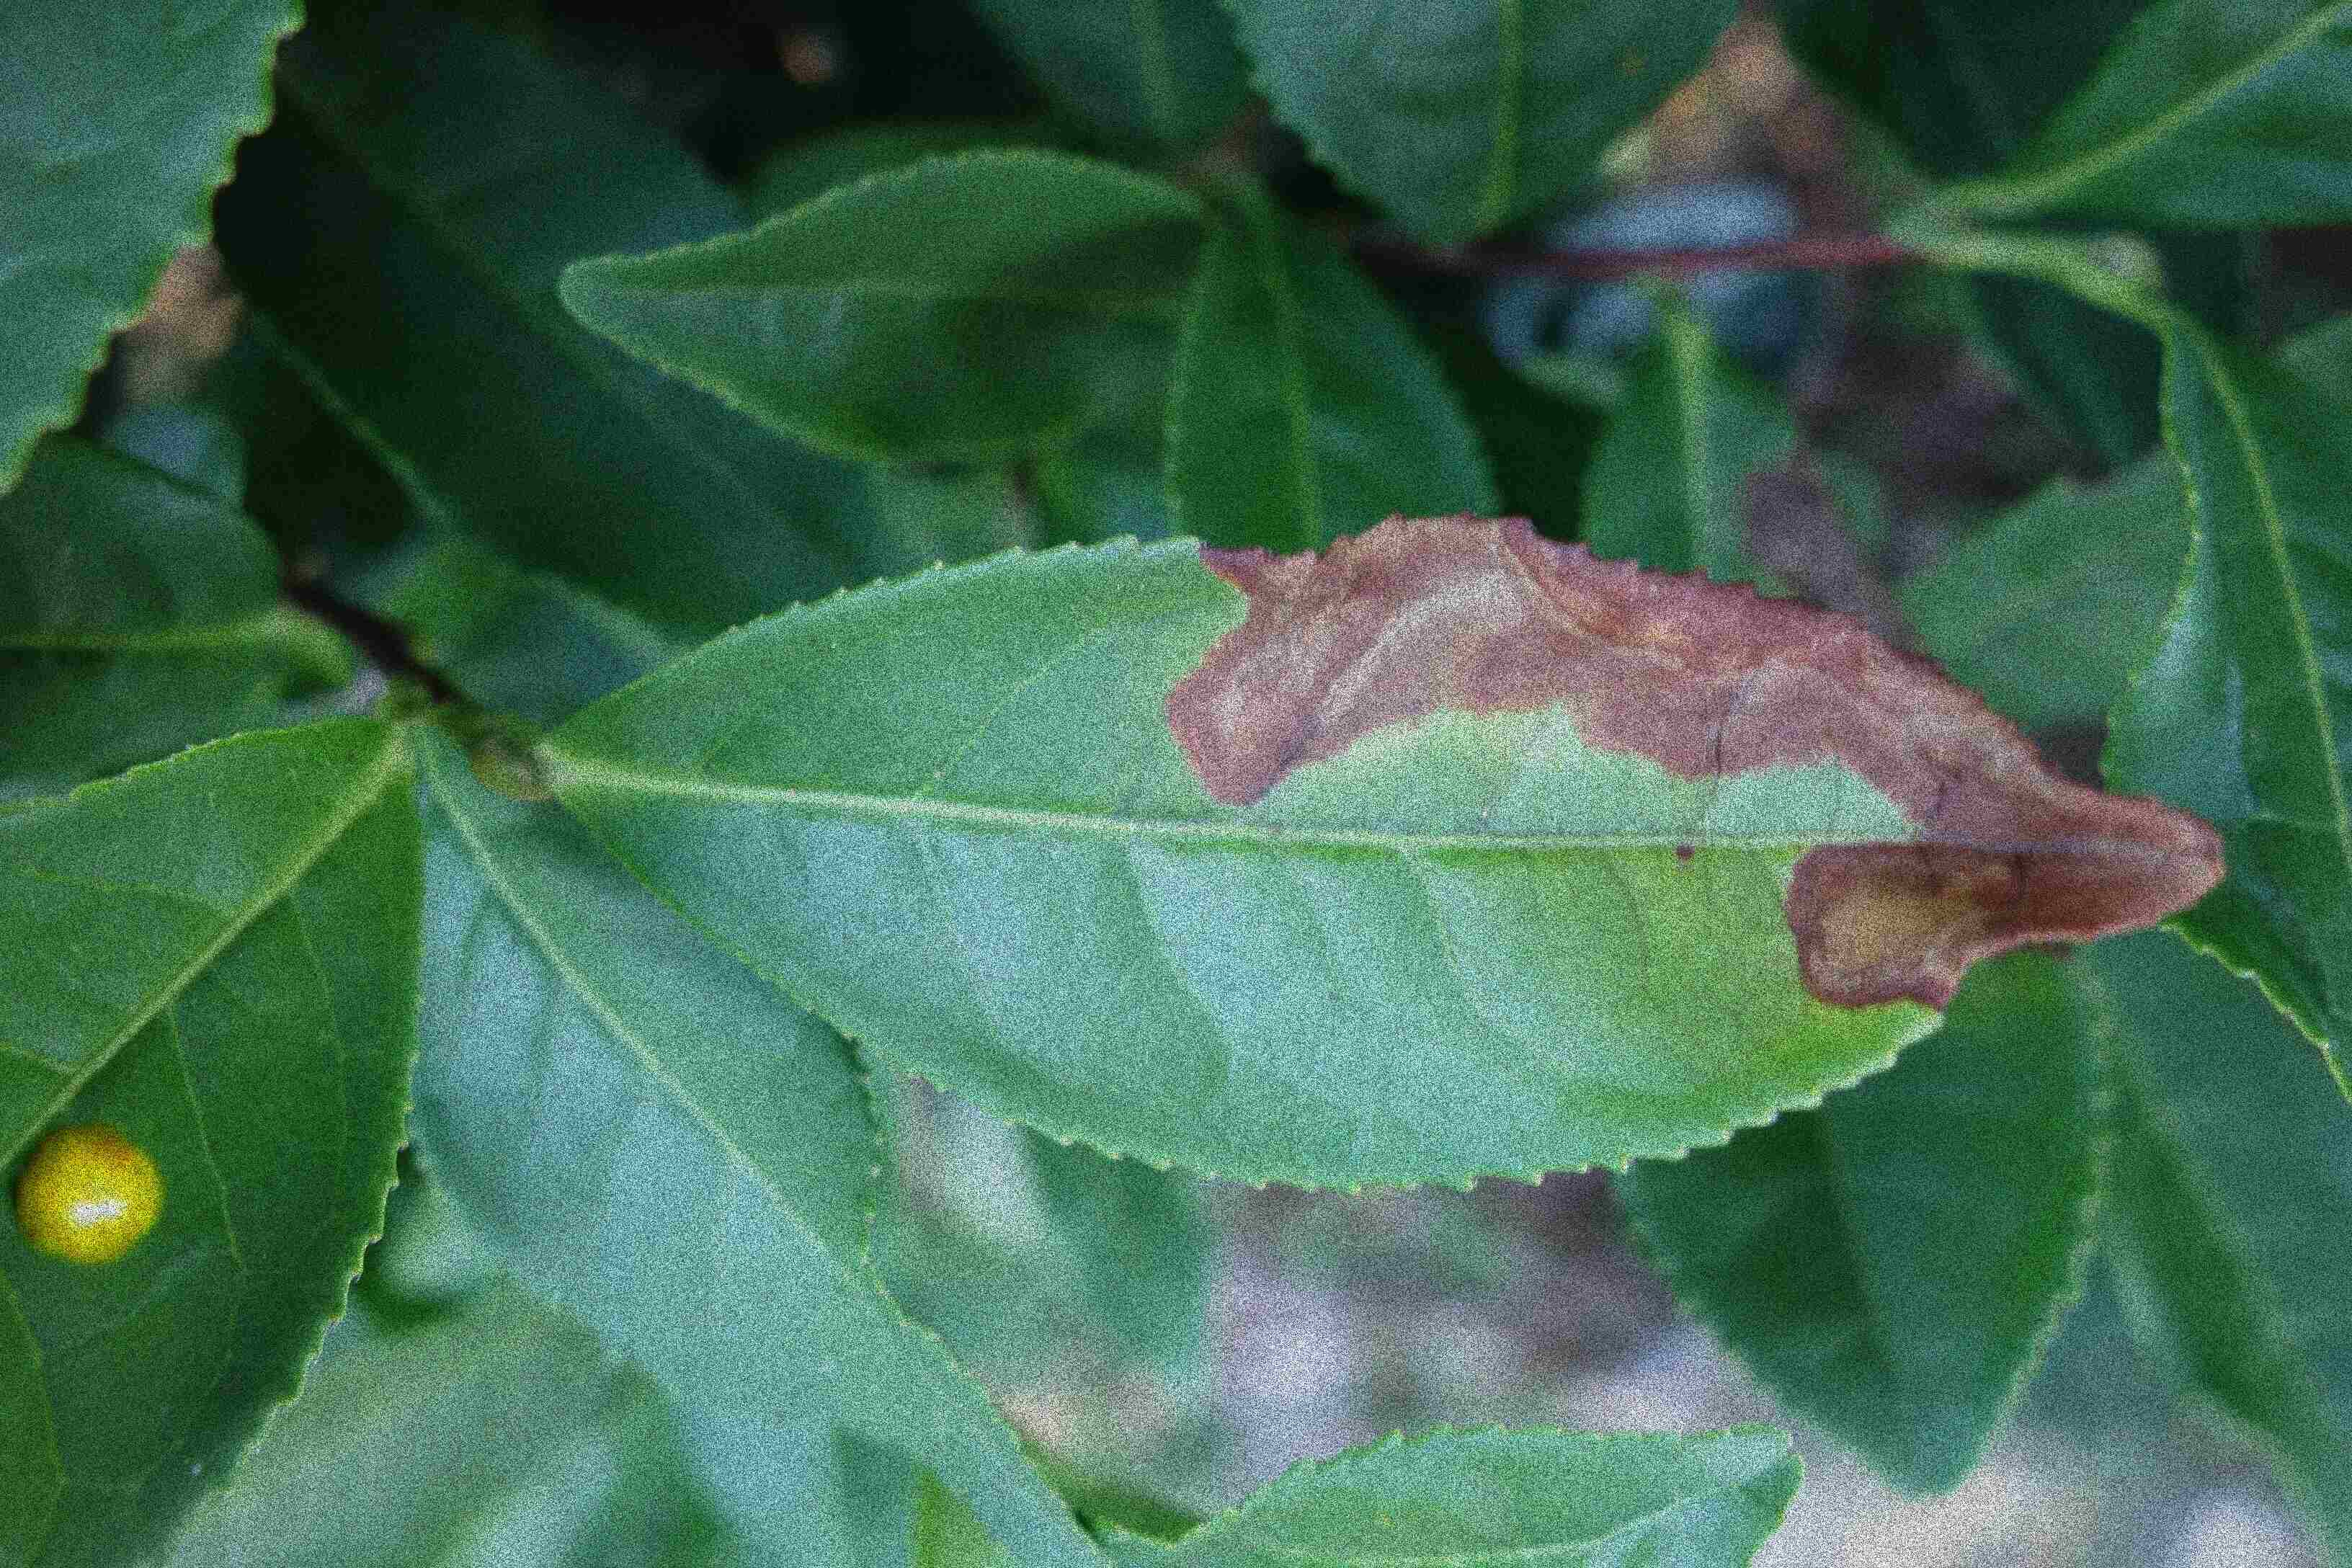chabing_low: (2, 712, 432, 1564)
healthy: (555, 147, 1197, 471)
tanju_high: (527, 516, 2228, 1202)
